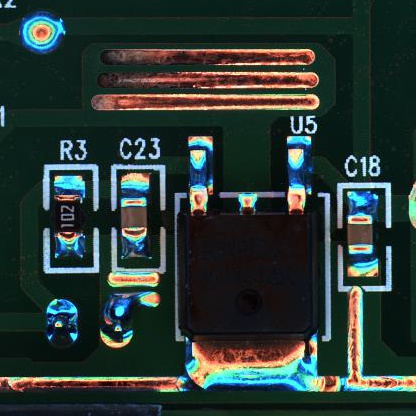spot: (98, 291, 137, 351), (19, 12, 66, 56), (42, 297, 80, 350)
